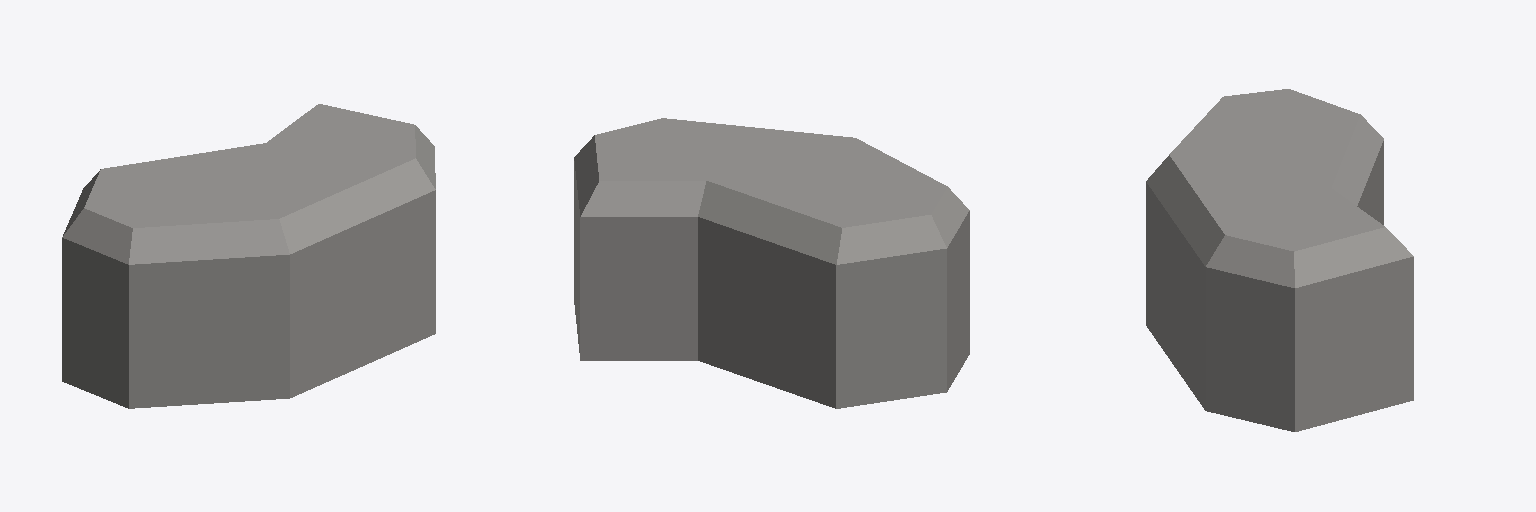
File: Hilly_Prop_Stepping_Stones_8.obj
3 views of the same model, side by side, from view 1: azimuth 30°, elevation 25°; view 2: azimuth 150°, elevation 25°; view 3: azimuth 270°, elevation 25° (orthographic).
Visible parts, largest first — view 1: object1; view 2: object1; view 3: object1.
Boxes of the visible parts, x1=… form: object1: x1=62, y1=104, x2=435, y2=408; object1: x1=574, y1=118, x2=969, y2=408; object1: x1=1146, y1=89, x2=1413, y2=431.
Bounding box in the file's own units: 0.5419 × 0.2375 × 0.3375.